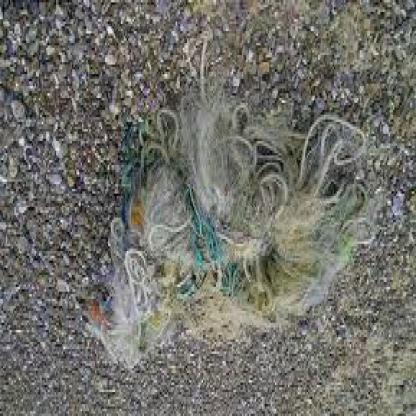Plastic: (89, 97, 371, 379)
